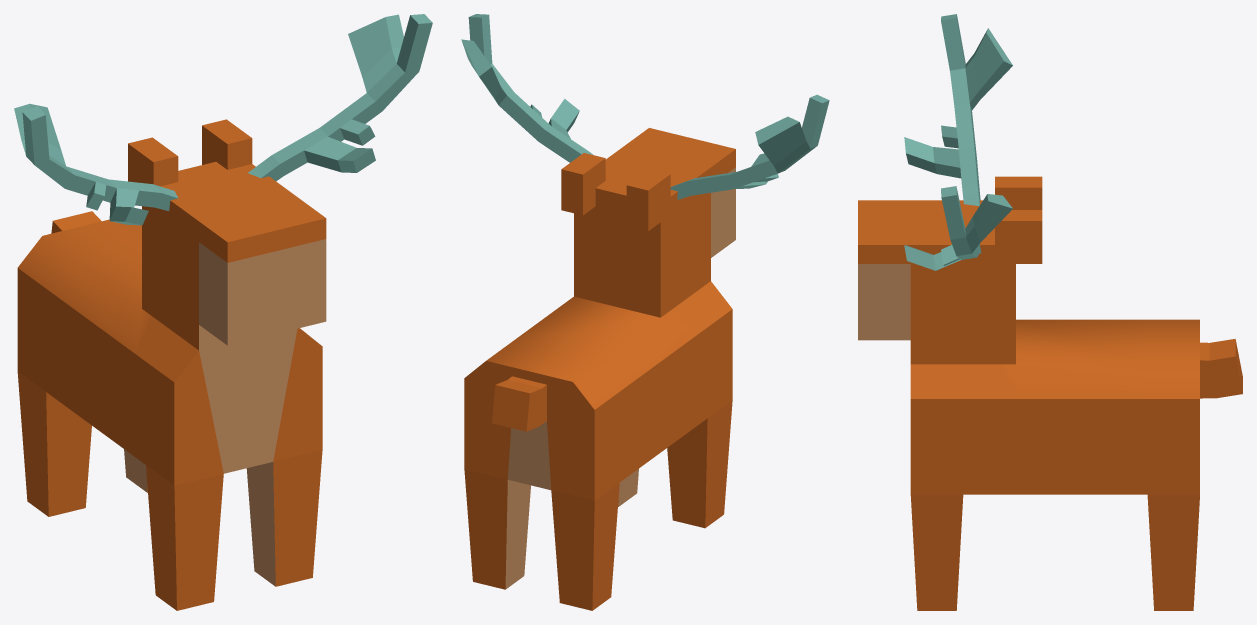
The model's file is Buck.FBX.
The picture shows the model from 3 angles, left to right: view 1: azimuth 30°, elevation 25°; view 2: azimuth 150°, elevation 25°; view 3: azimuth 270°, elevation 25°; orthographic projection. The views are drawn at different scales.
Visible parts, largest first — view 1: Doe, Antlers; view 2: Doe, Antlers; view 3: Doe, Antlers.
Part boxes in pixels (x1=…): Doe: x1=17, y1=119, x2=326, y2=610; Antlers: x1=14, y1=14, x2=432, y2=225; Doe: x1=464, y1=128, x2=735, y2=610; Antlers: x1=461, y1=14, x2=829, y2=199; Doe: x1=858, y1=176, x2=1242, y2=610; Antlers: x1=904, y1=14, x2=1012, y2=270.
Bounding box in the file's own units: 81.4 × 100 × 73.12.
